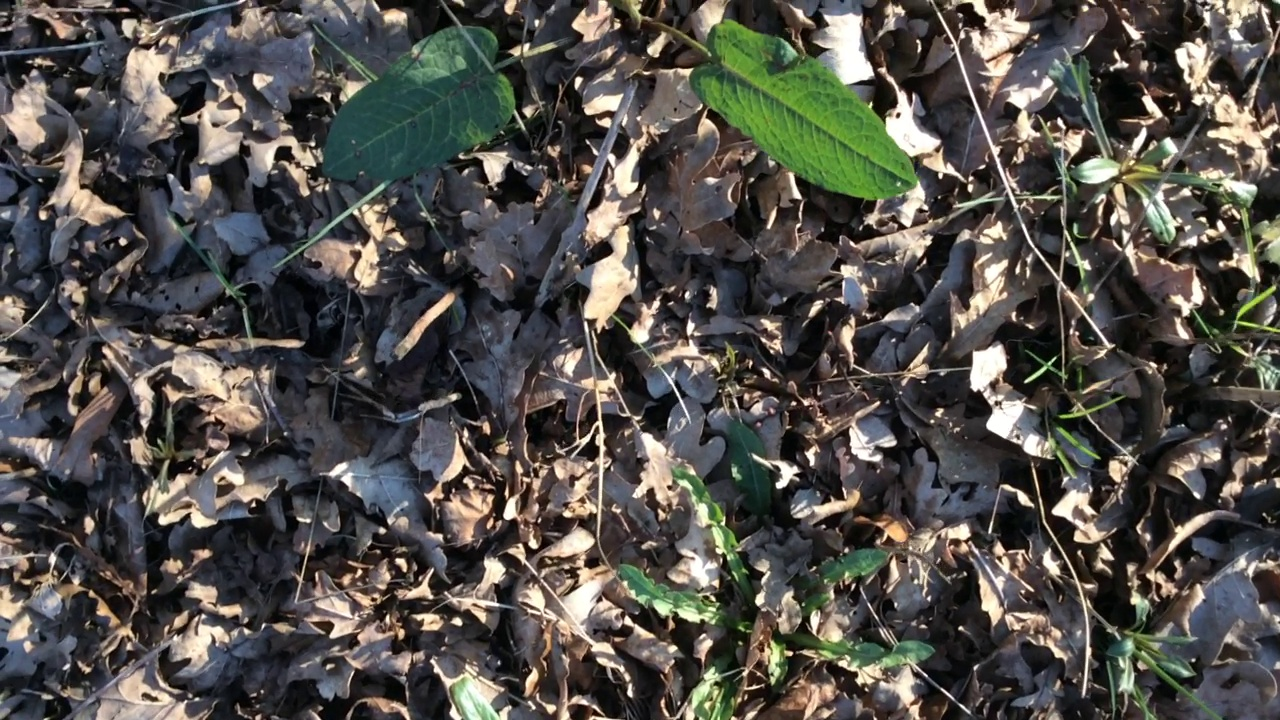rumex: (319, 1, 917, 203)
